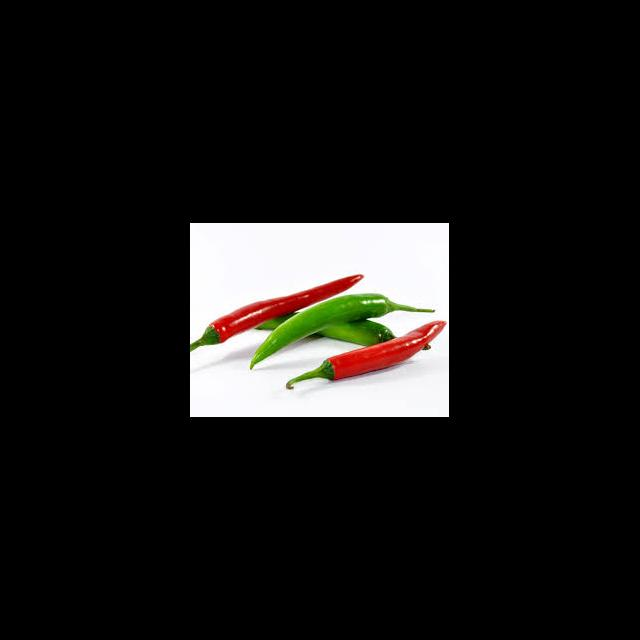chili_pepper: (197, 273, 368, 347), (251, 281, 392, 370), (324, 320, 447, 379)
